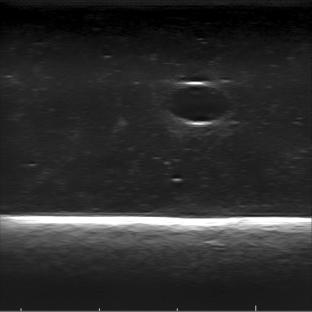vessel: (163, 80, 233, 128)
